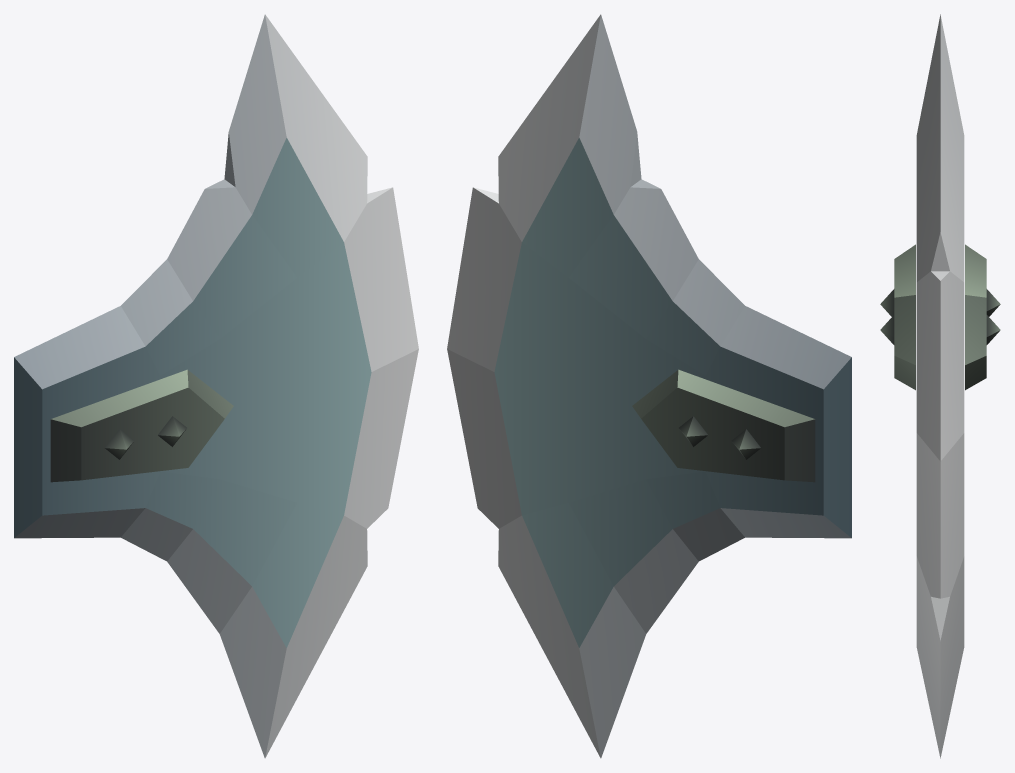
Rendered from axe-head_001.fbx.
3 renders of one model, left to right at view 1: azimuth 30°, elevation 25°; view 2: azimuth 150°, elevation 25°; view 3: azimuth 270°, elevation 25°, orthographic.
Visible parts, largest first — view 1: axe-head.001; view 2: axe-head.001; view 3: axe-head.001.
Boxes of the visible parts, x1=… form: axe-head.001: x1=14, y1=14, x2=418, y2=758; axe-head.001: x1=447, y1=14, x2=851, y2=758; axe-head.001: x1=880, y1=14, x2=1000, y2=758.
Size of the model in its own units: 42.06 by 73.95 by 10.85.
